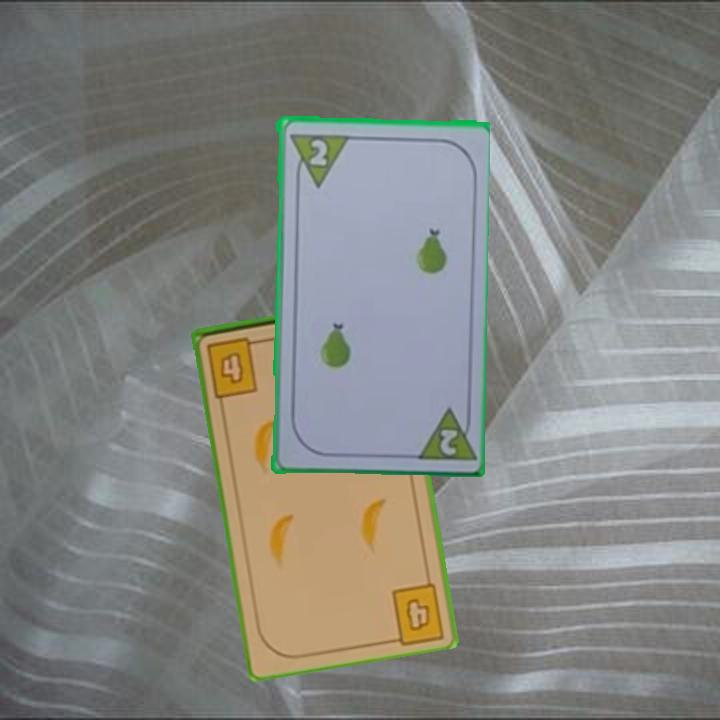2p: (411, 402, 476, 464), (306, 135, 330, 168)
4b: (203, 333, 267, 400), (402, 595, 434, 635)
